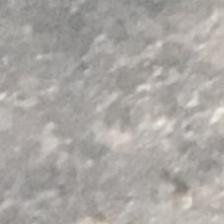Non_Crack: (12, 16, 204, 206)
